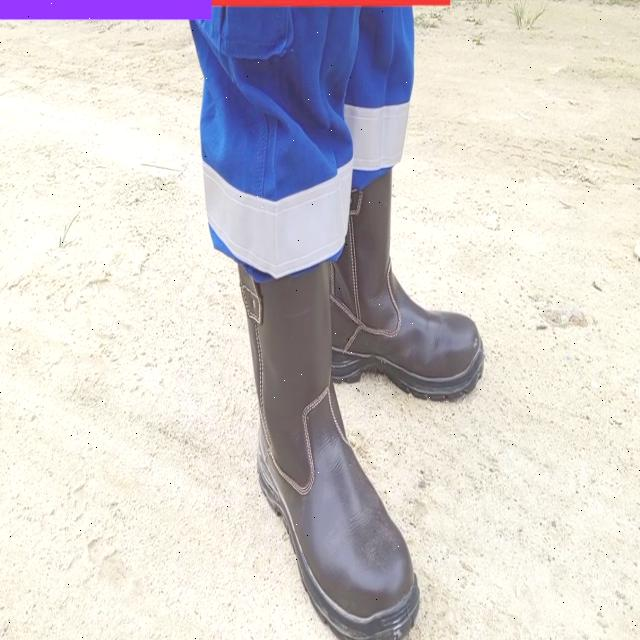Overall Suit: (196, 13, 412, 281)
Safety Boots: (238, 256, 420, 640), (333, 169, 479, 405)
